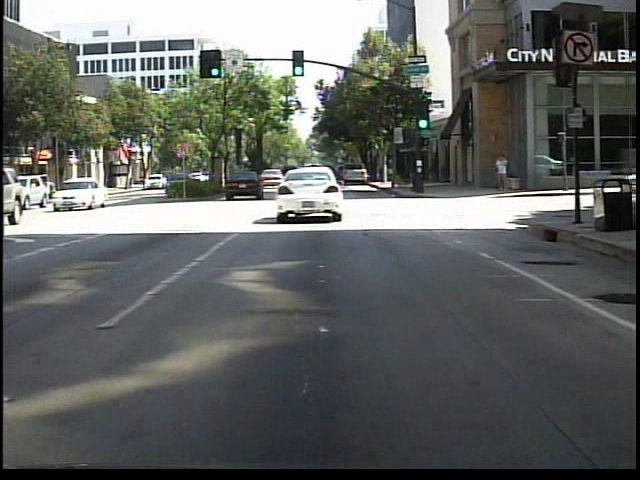person: (492, 153, 510, 196)
